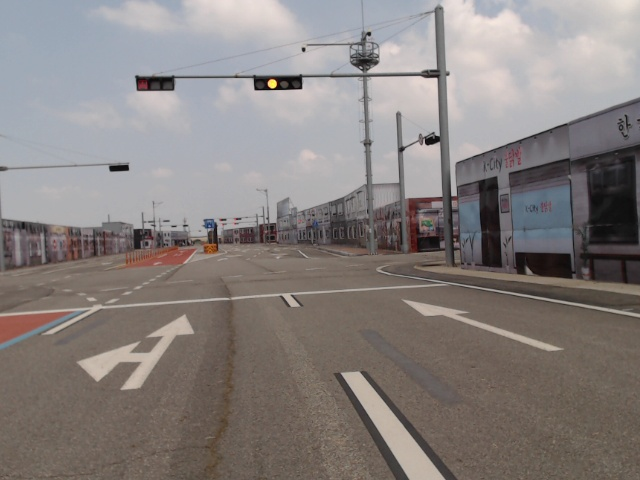orange_4: (253, 75, 303, 92)
